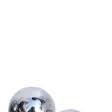ironball: (7, 84, 54, 111)
